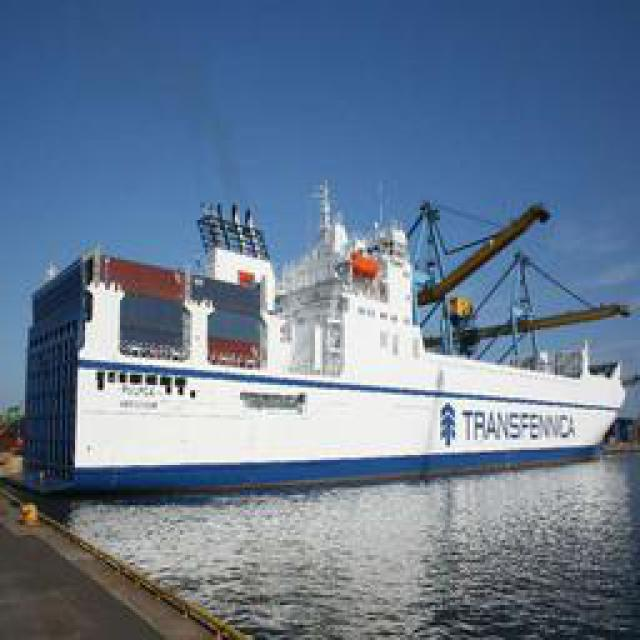Ship: (16, 192, 626, 502)
